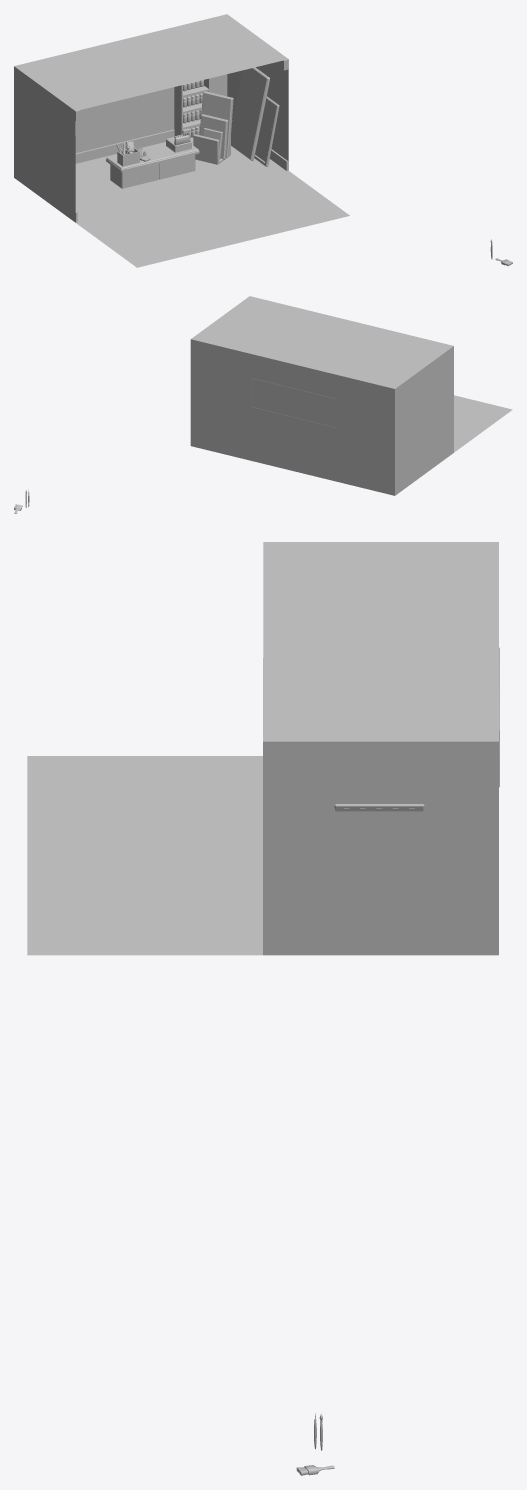
File: ArtShop.fbx
3 renders of one model, top to bottom at view 1: azimuth 30°, elevation 25°; view 2: azimuth 150°, elevation 25°; view 3: azimuth 270°, elevation 25°, orthographic. The views are drawn at different scales.
Visible parts, largest first — view 1: Room, Lienzo gigante, Mostrador, Expositor de lienzos, Estanteria, Lienzo mediano, Caja de pinceles, Caja registradora; view 2: Room; view 3: Room.
Part boxes in pixels (x1,y1,x2,y2): Room: (14,14,349,267); Lienzo gigante: (231,67,269,160); Mostrador: (106,143,199,188); Expositor de lienzos: (193,91,233,164); Estanteria: (174,78,210,142); Lienzo mediano: (254,96,279,166); Caja de pinceles: (116,141,139,166); Caja registradora: (166,128,191,152); Room: (190,296,512,495); Room: (27,542,498,955).
Size of the model in its own units: 210 by 121 by 100.
